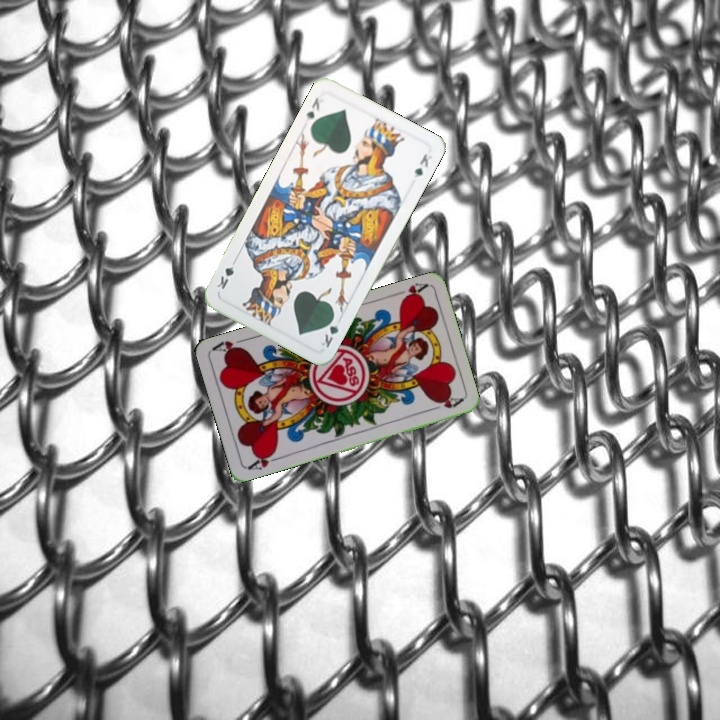GK: (317, 311, 342, 350), (300, 93, 323, 128)
HA: (244, 447, 284, 473), (390, 279, 430, 304)
